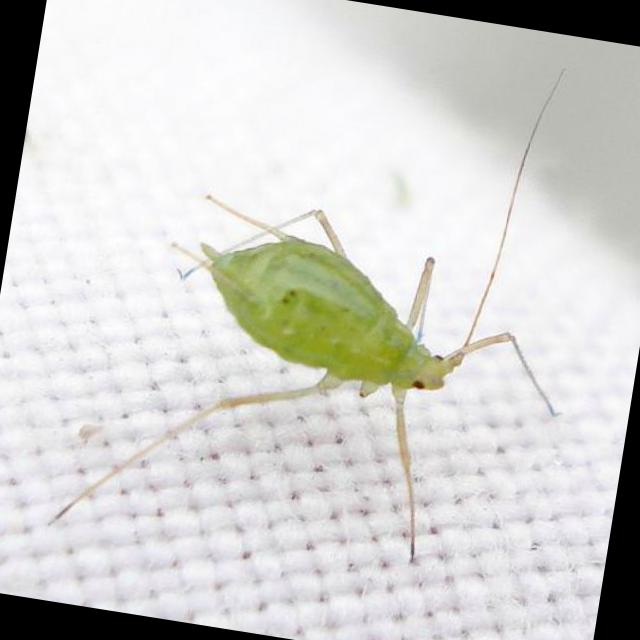Aphids: (57, 99, 596, 584)
